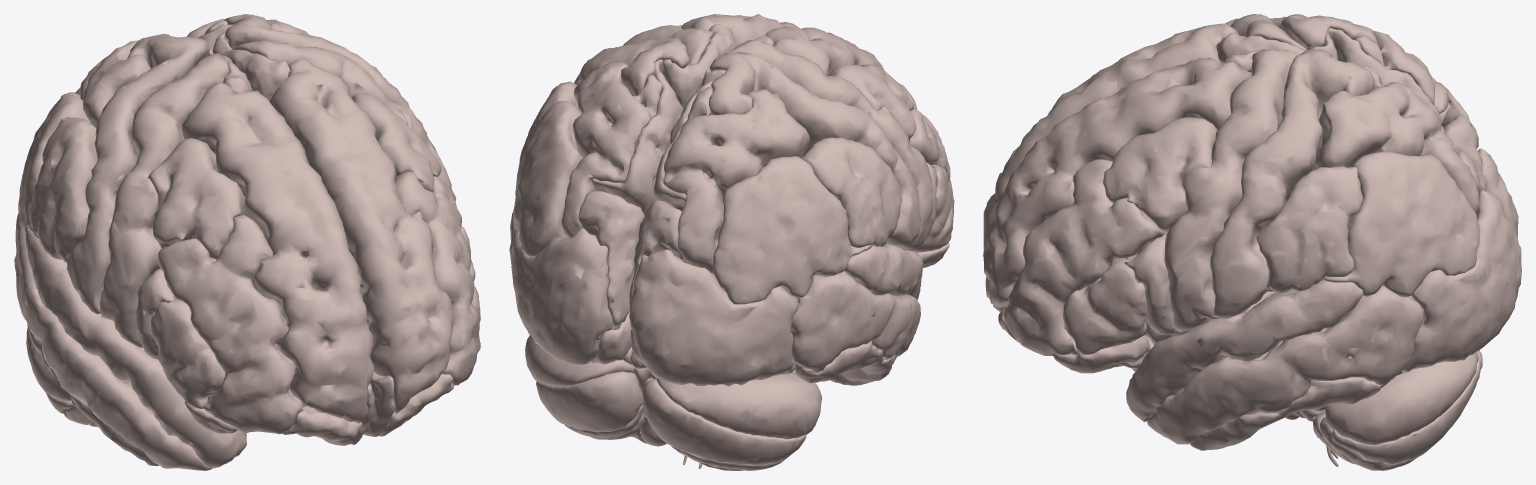
Rendered from atlas_nervous_mni152.nervous.LOD1.glb.
3 views of the same model, side by side, from view 1: azimuth 30°, elevation 25°; view 2: azimuth 150°, elevation 25°; view 3: azimuth 270°, elevation 25° (orthographic). The views are drawn at different scales.
Parts seen in each view (by area): view 1: ATLAS.NERVOUS.MNI152.NERVOUS.SUPERIOR_FRONTAL_GYRUS.R, ATLAS.NERVOUS.MNI152.NERVOUS.SUPERIOR_FRONTAL_GYRUS.L, ATLAS.NERVOUS.MNI152.NERVOUS.ROSTRAL_MIDDLE_FRONTAL_GYRUS.R, ATLAS.NERVOUS.MNI152.NERVOUS.PRECENTRAL_GYRUS.R, ATLAS.NERVOUS.MNI152.NERVOUS.POSTCENTRAL_GYRUS.R, ATLAS.NERVOUS.MNI152.NERVOUS.SUPERIOR_TEMPORAL_GYRUS.R, ATLAS.NERVOUS.MNI152.NERVOUS.MIDDLE_TEMPORAL_GYRUS.R, ATLAS.NERVOUS.MNI152.NERVOUS.CAUDAL_MIDDLE_FRONTAL_GYRUS.R, ATLAS.NERVOUS.MNI152.NERVOUS.ROSTRAL_MIDDLE_FRONTAL_GYRUS.L, ATLAS.NERVOUS.MNI152.NERVOUS.SUPRAMARGINAL_GYRUS.R, ATLAS.NERVOUS.MNI152.NERVOUS.INFERIOR_FRONTAL_GYRUS_PARS_TRI, ATLAS.NERVOUS.MNI152.NERVOUS.PRECENTRAL_GYRUS.L (+14 smaller); view 2: ATLAS.NERVOUS.MNI152.NERVOUS.INFERIOR_PARIETAL_LOBULE_ANGULA (×2), ATLAS.NERVOUS.MNI152.NERVOUS.LATERAL_OCCIPITAL_CORTEX.R, ATLAS.NERVOUS.MNI152.NERVOUS.SUPERIOR_PARIETAL_LOBULE.R, ATLAS.NERVOUS.MNI152.NERVOUS.LATERAL_OCCIPITAL_CORTEX.L, ATLAS.NERVOUS.MNI152.NERVOUS.POSTCENTRAL_GYRUS.R, ATLAS.NERVOUS.MNI152.NERVOUS.MIDDLE_TEMPORAL_GYRUS.R, ATLAS.NERVOUS.MNI152.NERVOUS.SUPERIOR_PARIETAL_LOBULE.L, ATLAS.NERVOUS.MNI152.NERVOUS.CRUS_I.R, ATLAS.NERVOUS.MNI152.NERVOUS.SUPRAMARGINAL_GYRUS.R, ATLAS.NERVOUS.MNI152.NERVOUS.CRUS_II.R, ATLAS.NERVOUS.MNI152.NERVOUS.PRECENTRAL_GYRUS.R, ATLAS.NERVOUS.MNI152.NERVOUS.CRUS_II.L (+19 smaller); view 3: ATLAS.NERVOUS.MNI152.NERVOUS.SUPERIOR_FRONTAL_GYRUS.L, ATLAS.NERVOUS.MNI152.NERVOUS.MIDDLE_TEMPORAL_GYRUS.L, ATLAS.NERVOUS.MNI152.NERVOUS.INFERIOR_PARIETAL_LOBULE_ANGULA, ATLAS.NERVOUS.MNI152.NERVOUS.POSTCENTRAL_GYRUS.L, ATLAS.NERVOUS.MNI152.NERVOUS.ROSTRAL_MIDDLE_FRONTAL_GYRUS.L, ATLAS.NERVOUS.MNI152.NERVOUS.PRECENTRAL_GYRUS.L, ATLAS.NERVOUS.MNI152.NERVOUS.SUPERIOR_TEMPORAL_GYRUS.L, ATLAS.NERVOUS.MNI152.NERVOUS.LATERAL_OCCIPITAL_CORTEX.L, ATLAS.NERVOUS.MNI152.NERVOUS.SUPERIOR_PARIETAL_LOBULE.L, ATLAS.NERVOUS.MNI152.NERVOUS.SUPRAMARGINAL_GYRUS.L, ATLAS.NERVOUS.MNI152.NERVOUS.CAUDAL_MIDDLE_FRONTAL_GYRUS.L, ATLAS.NERVOUS.MNI152.NERVOUS.CRUS_I.L (+14 smaller).
Boxes of the visible parts, x1,y1,x2,y2 form: ATLAS.NERVOUS.MNI152.NERVOUS.SUPERIOR_FRONTAL_GYRUS.R: (182, 82, 374, 423); ATLAS.NERVOUS.MNI152.NERVOUS.SUPERIOR_FRONTAL_GYRUS.L: (269, 59, 453, 413); ATLAS.NERVOUS.MNI152.NERVOUS.ROSTRAL_MIDDLE_FRONTAL_GYRUS.R: (158, 215, 302, 434); ATLAS.NERVOUS.MNI152.NERVOUS.PRECENTRAL_GYRUS.R: (99, 53, 228, 347); ATLAS.NERVOUS.MNI152.NERVOUS.POSTCENTRAL_GYRUS.R: (67, 33, 209, 314); ATLAS.NERVOUS.MNI152.NERVOUS.SUPERIOR_TEMPORAL_GYRUS.R: (25, 228, 246, 468); ATLAS.NERVOUS.MNI152.NERVOUS.MIDDLE_TEMPORAL_GYRUS.R: (14, 227, 212, 470); ATLAS.NERVOUS.MNI152.NERVOUS.CAUDAL_MIDDLE_FRONTAL_GYRUS.R: (148, 138, 245, 259); ATLAS.NERVOUS.MNI152.NERVOUS.ROSTRAL_MIDDLE_FRONTAL_GYRUS.L: (394, 171, 480, 385); ATLAS.NERVOUS.MNI152.NERVOUS.SUPRAMARGINAL_GYRUS.R: (28, 117, 97, 262); ATLAS.NERVOUS.MNI152.NERVOUS.INFERIOR_FRONTAL_GYRUS_PARS_TRI: (151, 299, 225, 408); ATLAS.NERVOUS.MNI152.NERVOUS.PRECENTRAL_GYRUS.L: (234, 40, 456, 201); ATLAS.NERVOUS.MNI152.NERVOUS.INFERIOR_PARIETAL_LOBULE_ANGULA (×2): (513, 100, 872, 304); ATLAS.NERVOUS.MNI152.NERVOUS.LATERAL_OCCIPITAL_CORTEX.R: (629, 249, 798, 386); ATLAS.NERVOUS.MNI152.NERVOUS.SUPERIOR_PARIETAL_LOBULE.R: (663, 87, 810, 273); ATLAS.NERVOUS.MNI152.NERVOUS.LATERAL_OCCIPITAL_CORTEX.L: (511, 228, 612, 365); ATLAS.NERVOUS.MNI152.NERVOUS.POSTCENTRAL_GYRUS.R: (709, 52, 920, 249); ATLAS.NERVOUS.MNI152.NERVOUS.MIDDLE_TEMPORAL_GYRUS.R: (791, 271, 920, 372); ATLAS.NERVOUS.MNI152.NERVOUS.SUPERIOR_PARIETAL_LOBULE.L: (561, 60, 662, 237); ATLAS.NERVOUS.MNI152.NERVOUS.CRUS_I.R: (655, 372, 821, 439); ATLAS.NERVOUS.MNI152.NERVOUS.SUPRAMARGINAL_GYRUS.R: (801, 137, 901, 247); ATLAS.NERVOUS.MNI152.NERVOUS.CRUS_II.R: (642, 379, 806, 464); ATLAS.NERVOUS.MNI152.NERVOUS.PRECENTRAL_GYRUS.R: (730, 40, 933, 250); ATLAS.NERVOUS.MNI152.NERVOUS.CRUS_II.L: (536, 371, 642, 432); ATLAS.NERVOUS.MNI152.NERVOUS.SUPERIOR_FRONTAL_GYRUS.L: (983, 58, 1251, 312); ATLAS.NERVOUS.MNI152.NERVOUS.MIDDLE_TEMPORAL_GYRUS.L: (1147, 285, 1423, 444); ATLAS.NERVOUS.MNI152.NERVOUS.INFERIOR_PARIETAL_LOBULE_ANGULA: (1324, 151, 1479, 296); ATLAS.NERVOUS.MNI152.NERVOUS.POSTCENTRAL_GYRUS.L: (1210, 49, 1374, 318); ATLAS.NERVOUS.MNI152.NERVOUS.ROSTRAL_MIDDLE_FRONTAL_GYRUS.L: (1003, 159, 1164, 356); ATLAS.NERVOUS.MNI152.NERVOUS.PRECENTRAL_GYRUS.L: (1165, 49, 1298, 331); ATLAS.NERVOUS.MNI152.NERVOUS.SUPERIOR_TEMPORAL_GYRUS.L: (1126, 279, 1363, 421); ATLAS.NERVOUS.MNI152.NERVOUS.LATERAL_OCCIPITAL_CORTEX.L: (1402, 189, 1521, 372); ATLAS.NERVOUS.MNI152.NERVOUS.SUPERIOR_PARIETAL_LOBULE.L: (1313, 65, 1479, 213); ATLAS.NERVOUS.MNI152.NERVOUS.SUPRAMARGINAL_GYRUS.L: (1256, 166, 1363, 293); ATLAS.NERVOUS.MNI152.NERVOUS.CAUDAL_MIDDLE_FRONTAL_GYRUS.L: (1103, 117, 1217, 232); ATLAS.NERVOUS.MNI152.NERVOUS.CRUS_I.L: (1325, 351, 1478, 444).
Size of the model in its own units: 0.1448 by 0.1587 by 0.1813.
